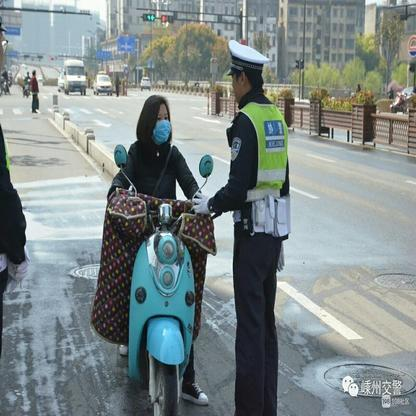target: (98, 93, 213, 409)
